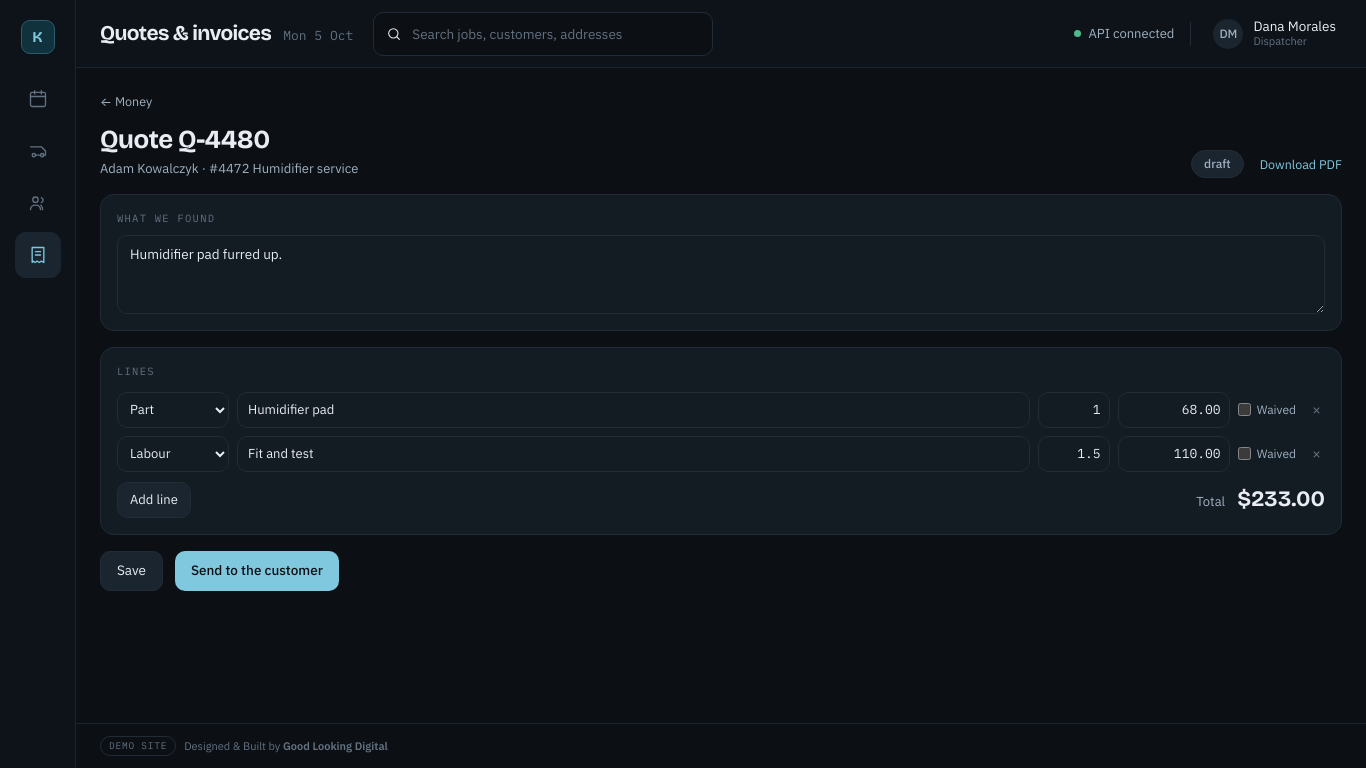
Test: writing a quote › will not let an empty line be saved
This screenshot has width=1366, height=768.
expect the heading "Quote Q-4480" is shown: met, box [100,124,270,155]
Clear the field named "Line 1 description" at (633,410), box [237,392,1030,428]
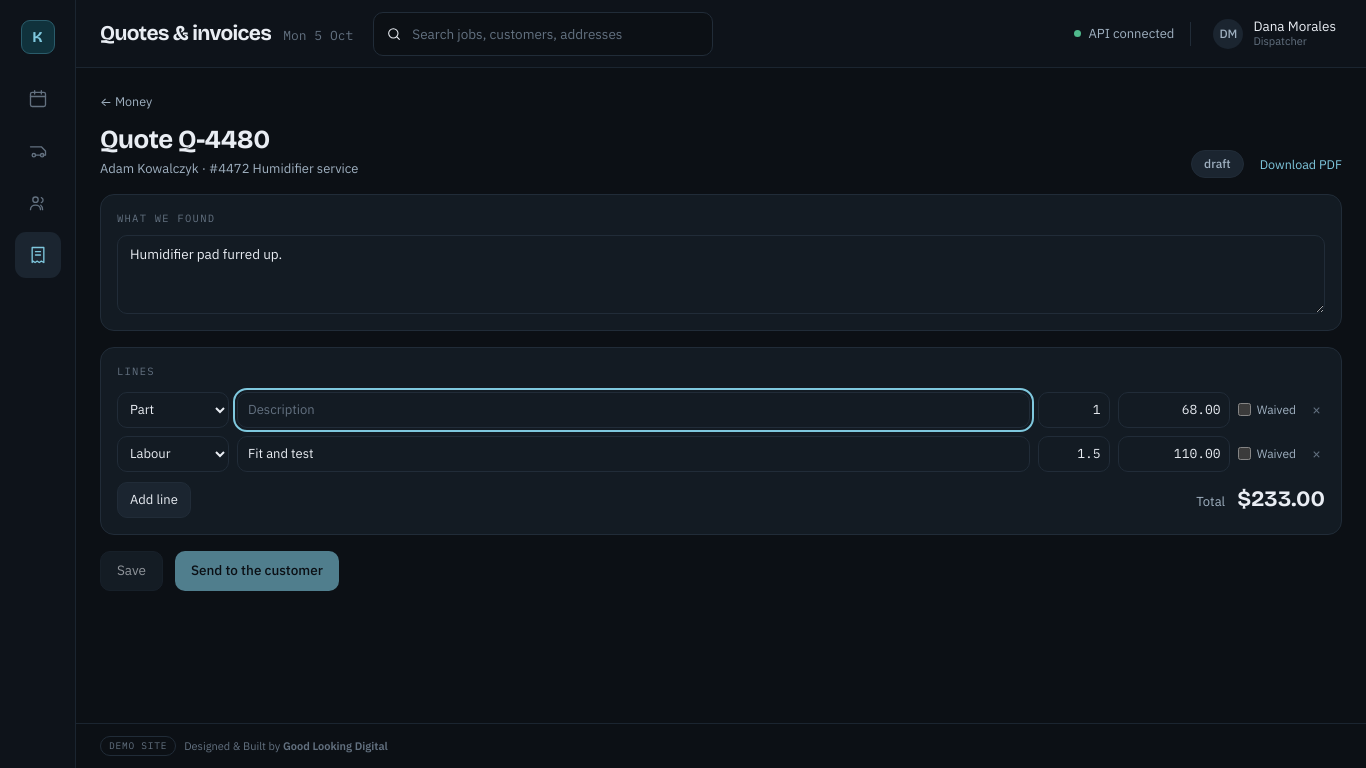
expect the button "Save" is disabled: met, box [100,550,163,590]
